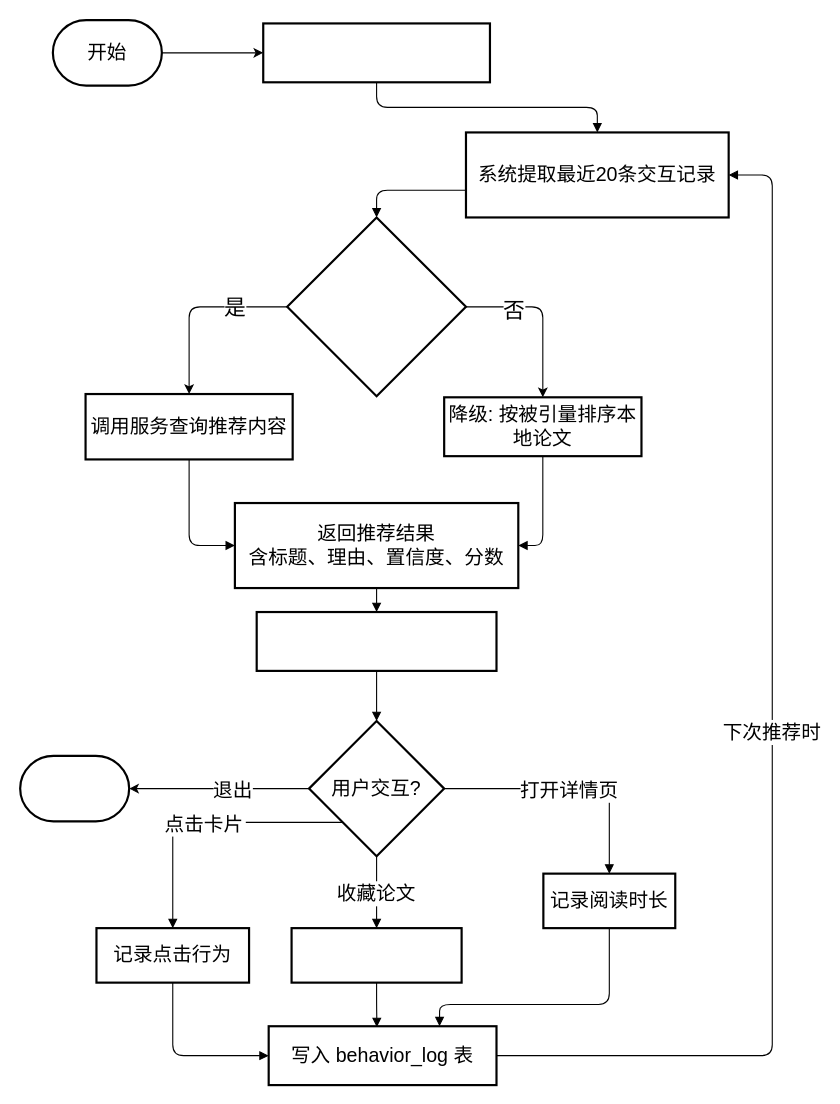
The diagram is 840 pixels wide and 1104 high, and some of its shapes have lost their labels. The box of each missing label's shape, as (x1, y1, x2, y2) in pixels:
Python 服务 是否可用?: (286, 216, 467, 397)
前端渲染推荐卡片列表: (255, 610, 497, 671)
用户进入首页: (262, 22, 491, 83)
结束: (19, 754, 130, 822)
记录收藏行为: (290, 927, 462, 983)
